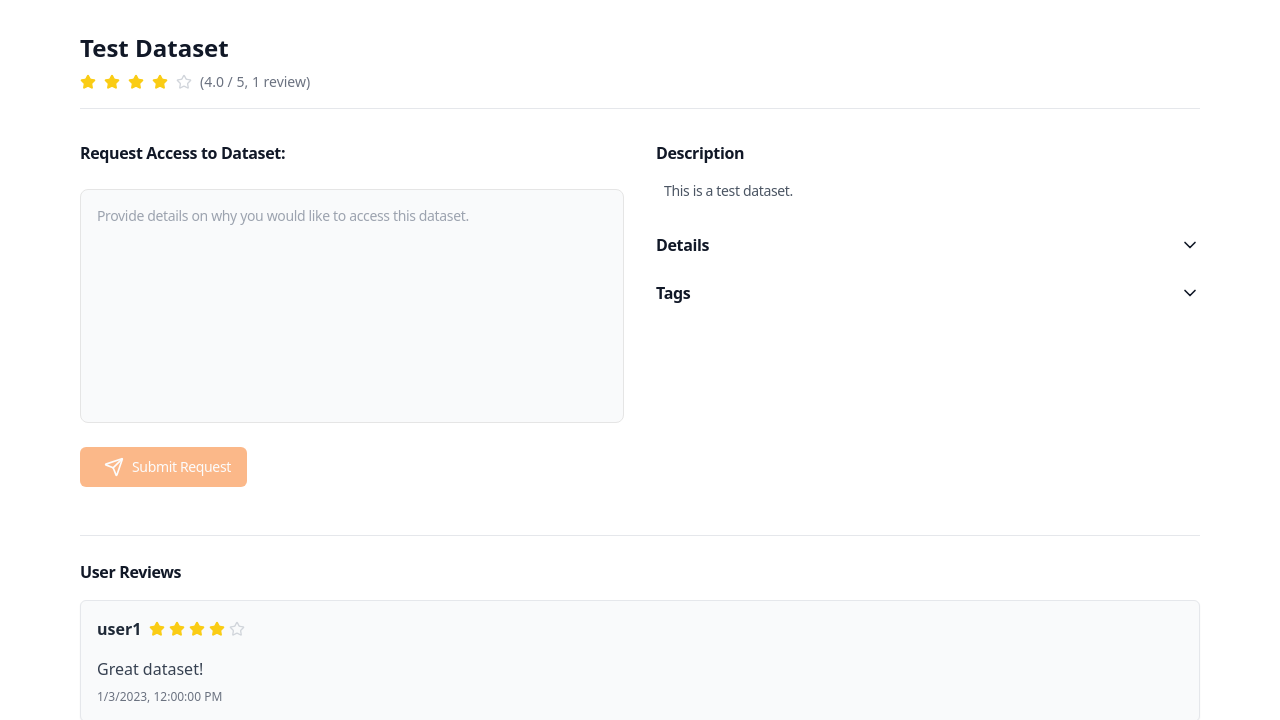
Test: DatasetDetail › renders dataset details and feedback after successful fetch
Check: the heading "Test Dataset" is shown, box [80,31,229,64]
Note: Use userEvent to click the details toggle button.
Click the button with test id "details-toggle": (683, 245) [656,233,1200,257]
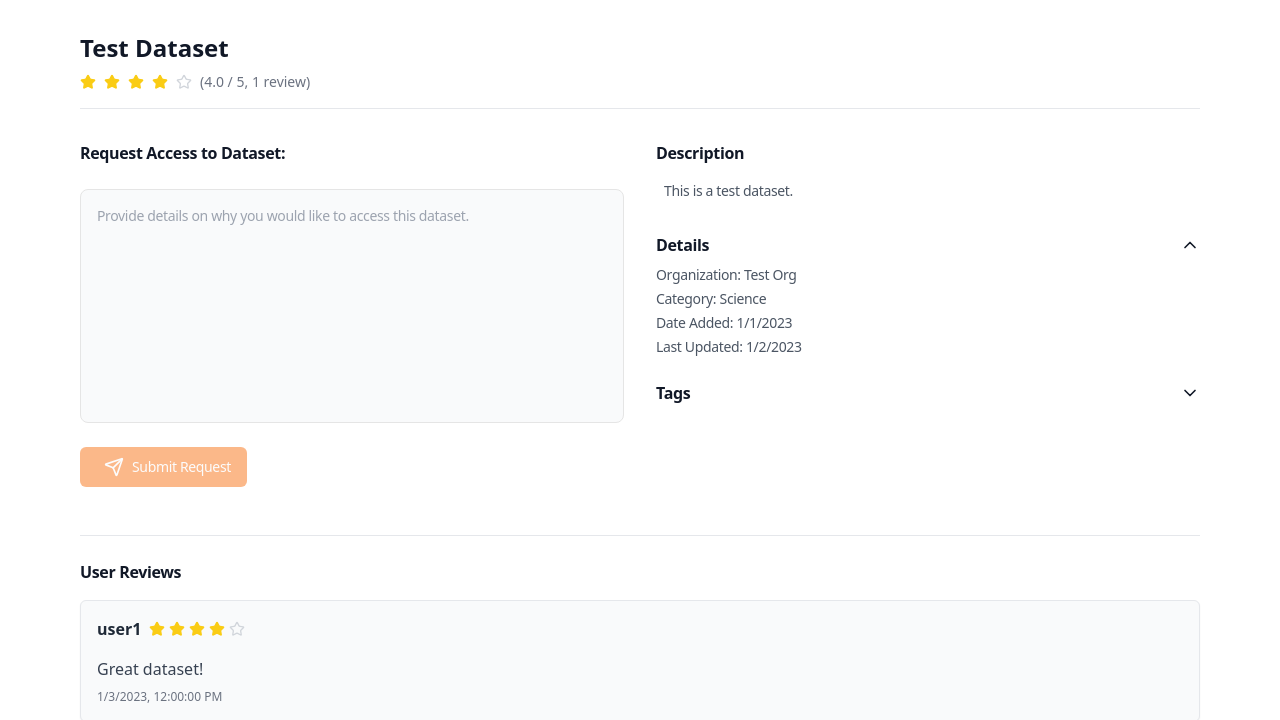
Click the button with test id "tags-toggle": (673, 393) [656,381,1200,405]
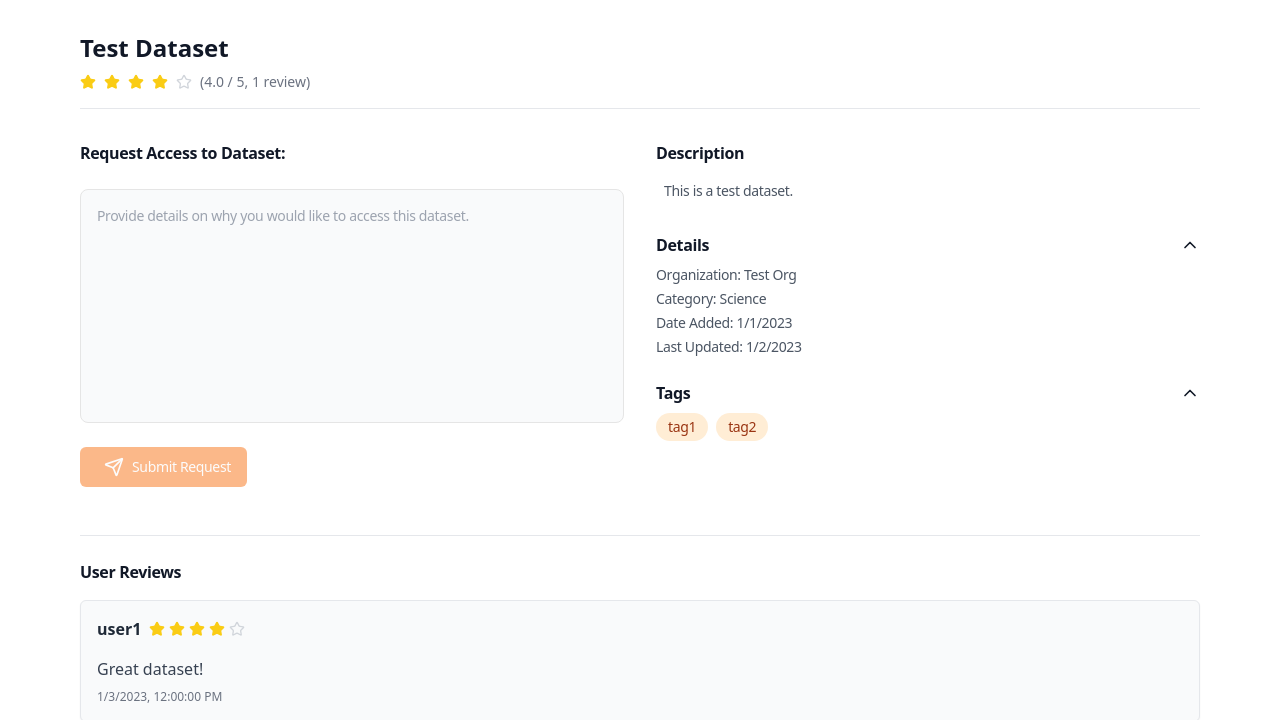
Check: the text "Test Org" is shown, box [744,265,796,284]
Check: the text "tag1" is shown, box [656,413,708,441]
Check: the text "tag2" is shown, box [716,413,768,441]
